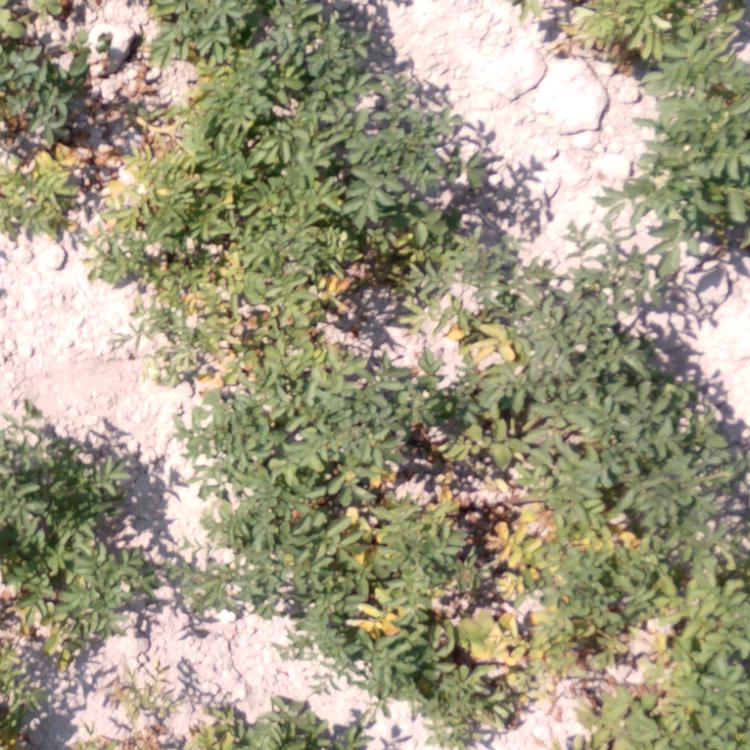healthy: (1, 415, 151, 630), (526, 279, 685, 430), (194, 388, 335, 556), (264, 4, 406, 149), (627, 81, 739, 224), (170, 690, 361, 746), (369, 157, 469, 238), (658, 446, 738, 547), (3, 30, 77, 122)
st: (365, 307, 510, 453)
stressed: (119, 181, 357, 375), (352, 457, 643, 566), (328, 569, 573, 674), (597, 582, 739, 741), (133, 1, 245, 166), (1, 124, 113, 240), (569, 1, 724, 78)
